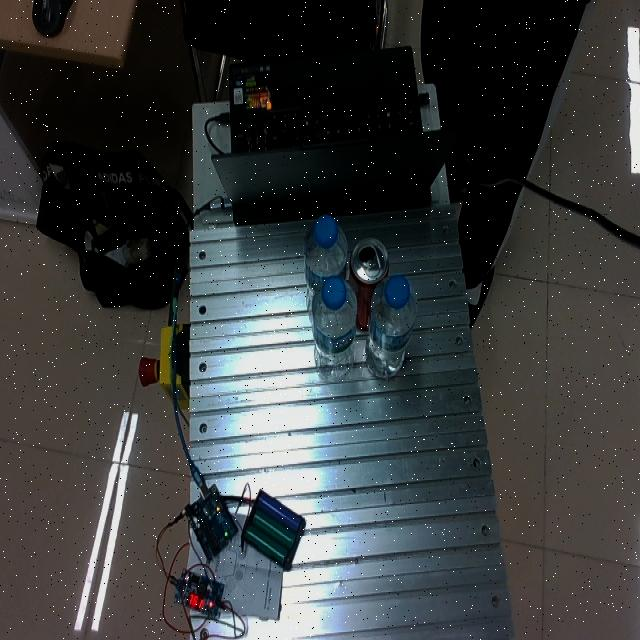coca: (350, 237, 389, 332)
lavie: (366, 276, 416, 380), (310, 275, 357, 381), (303, 215, 348, 316)
